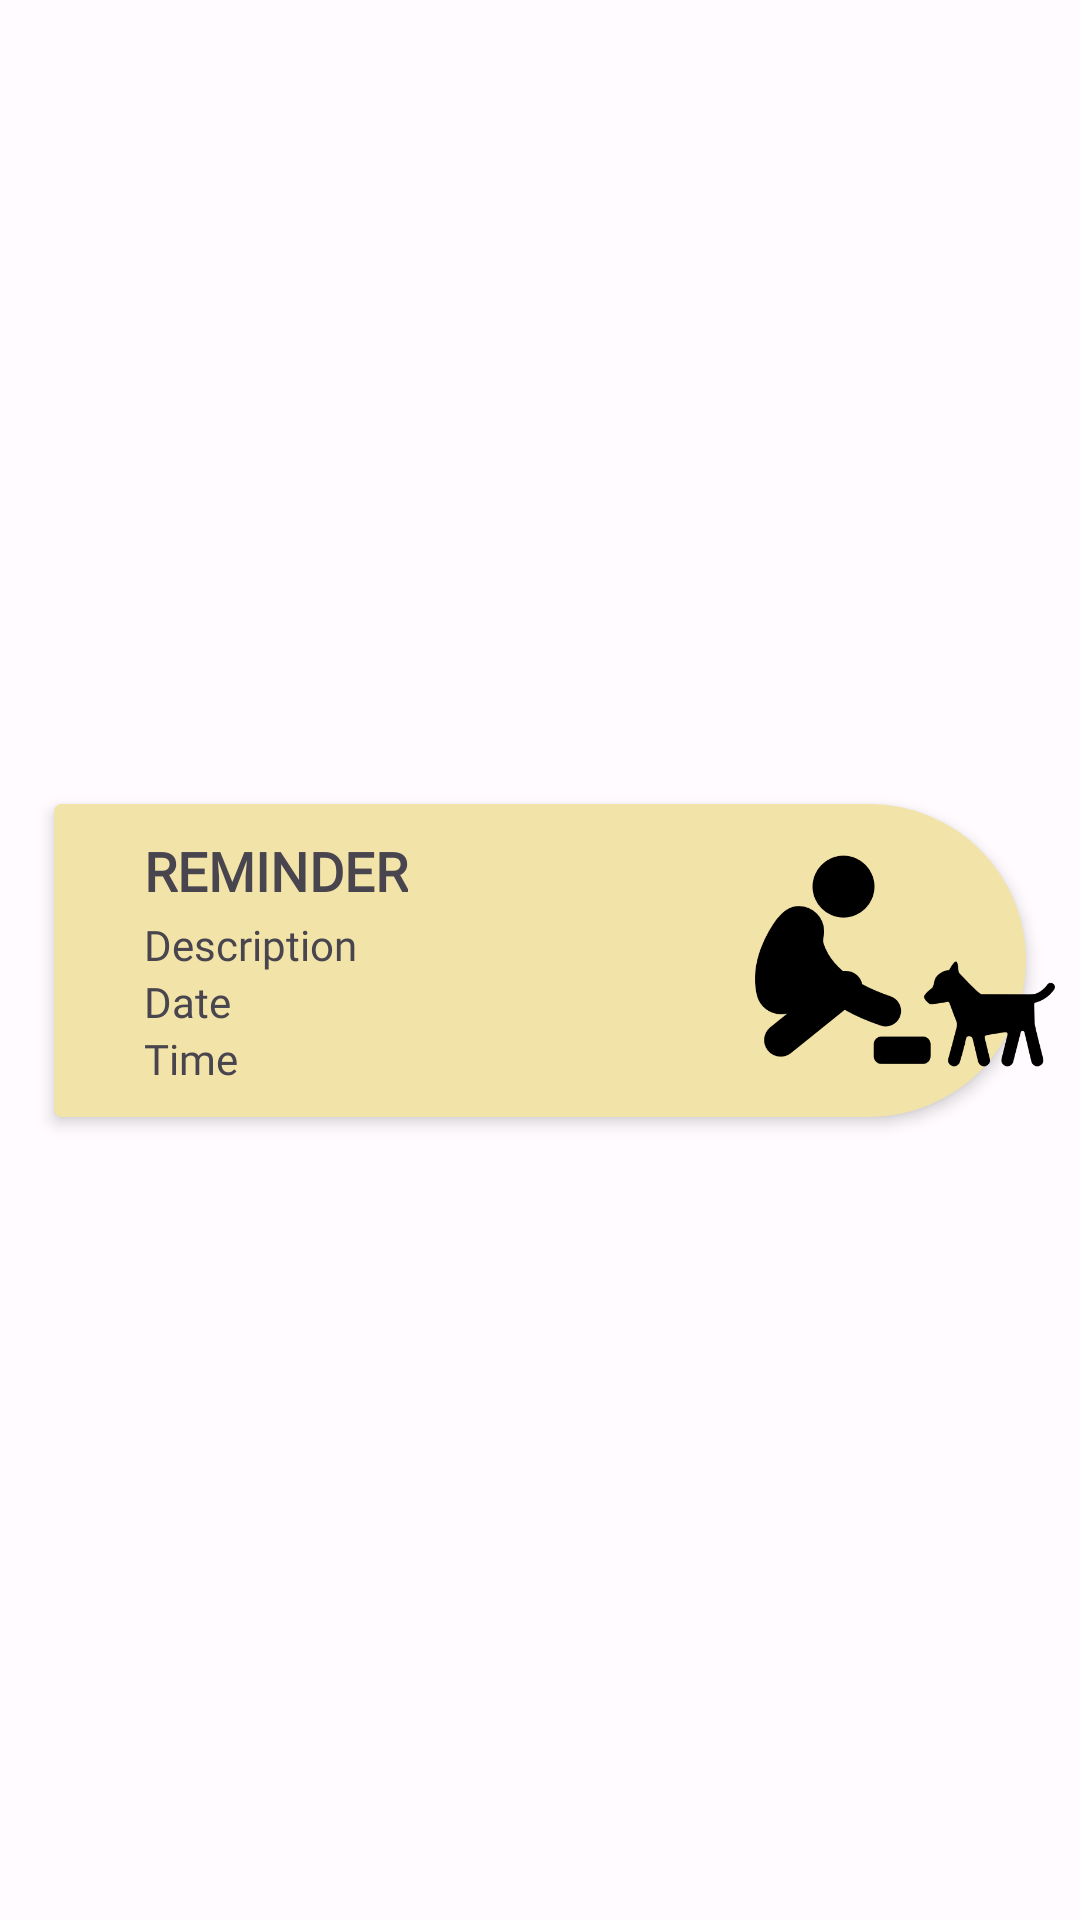

Icons on this 1080w x 1920h Android screen, each with the point to tap as (x,y):
pet feed: (905,961)
